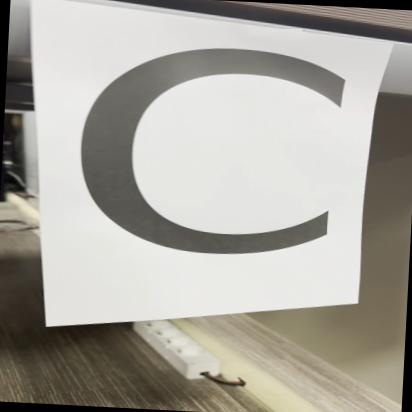seat: (28, 3, 378, 312)
